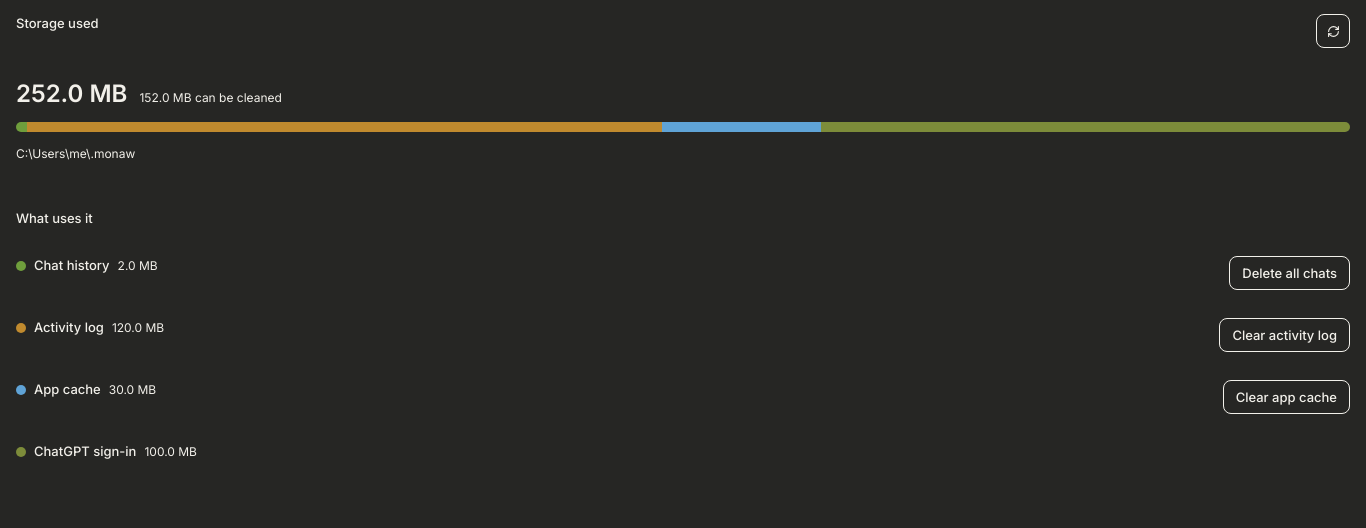
Test case: StorageSettings › shows why a cleanup was refused
Click the button "Delete all chats": (1290, 273) [1229, 256, 1350, 290]
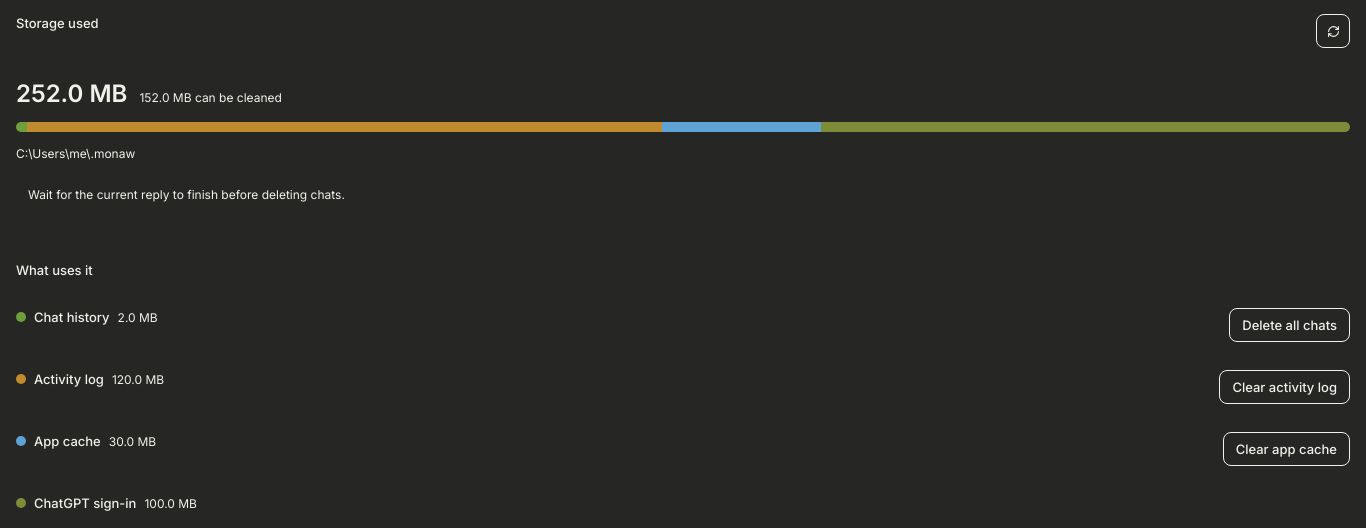
Expected: the text "Wait for the current reply to finish before deleting chats." is shown, [28, 185, 345, 205]
